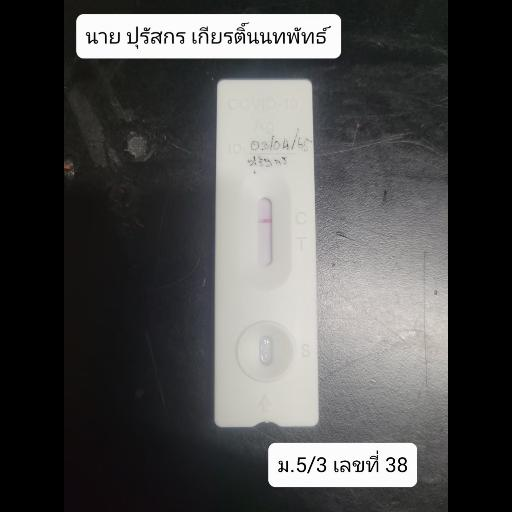Neg: (215, 78, 319, 428)
